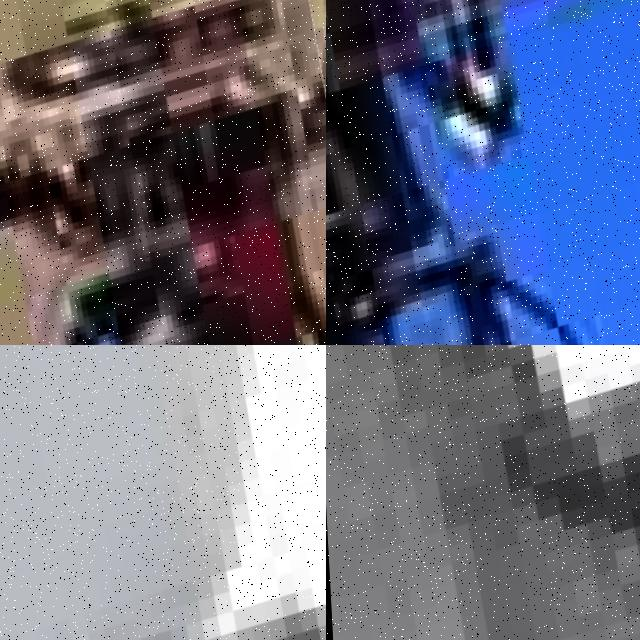drone: (0, 0, 326, 345), (326, 0, 640, 345), (0, 345, 326, 640), (326, 345, 640, 640)
